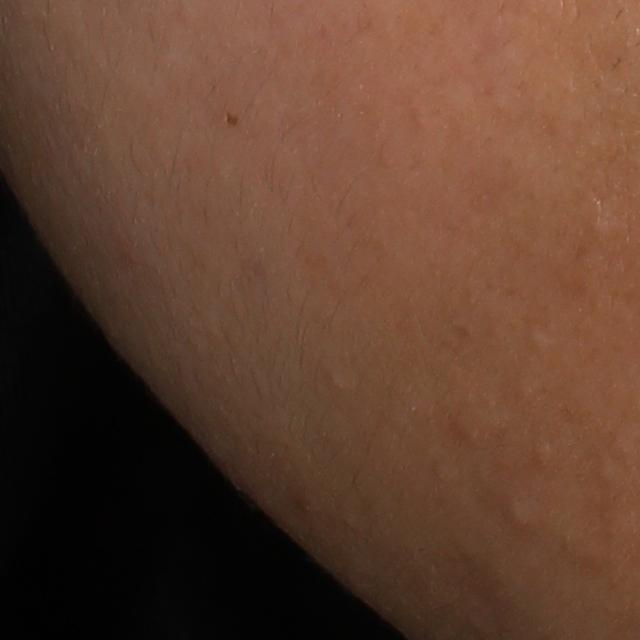comedo: (504, 491, 546, 533), (523, 326, 553, 353)
